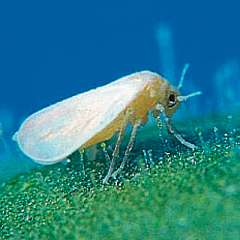whitefly: (10, 61, 206, 185)
